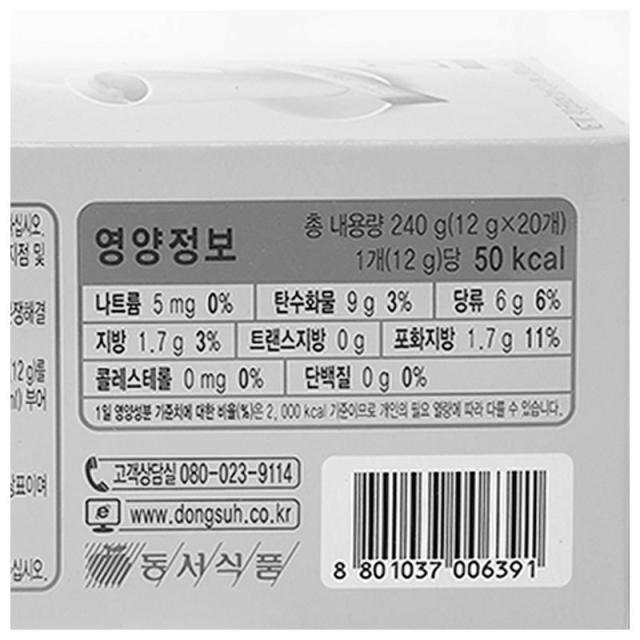Nutrition Label: (71, 189, 587, 434)
